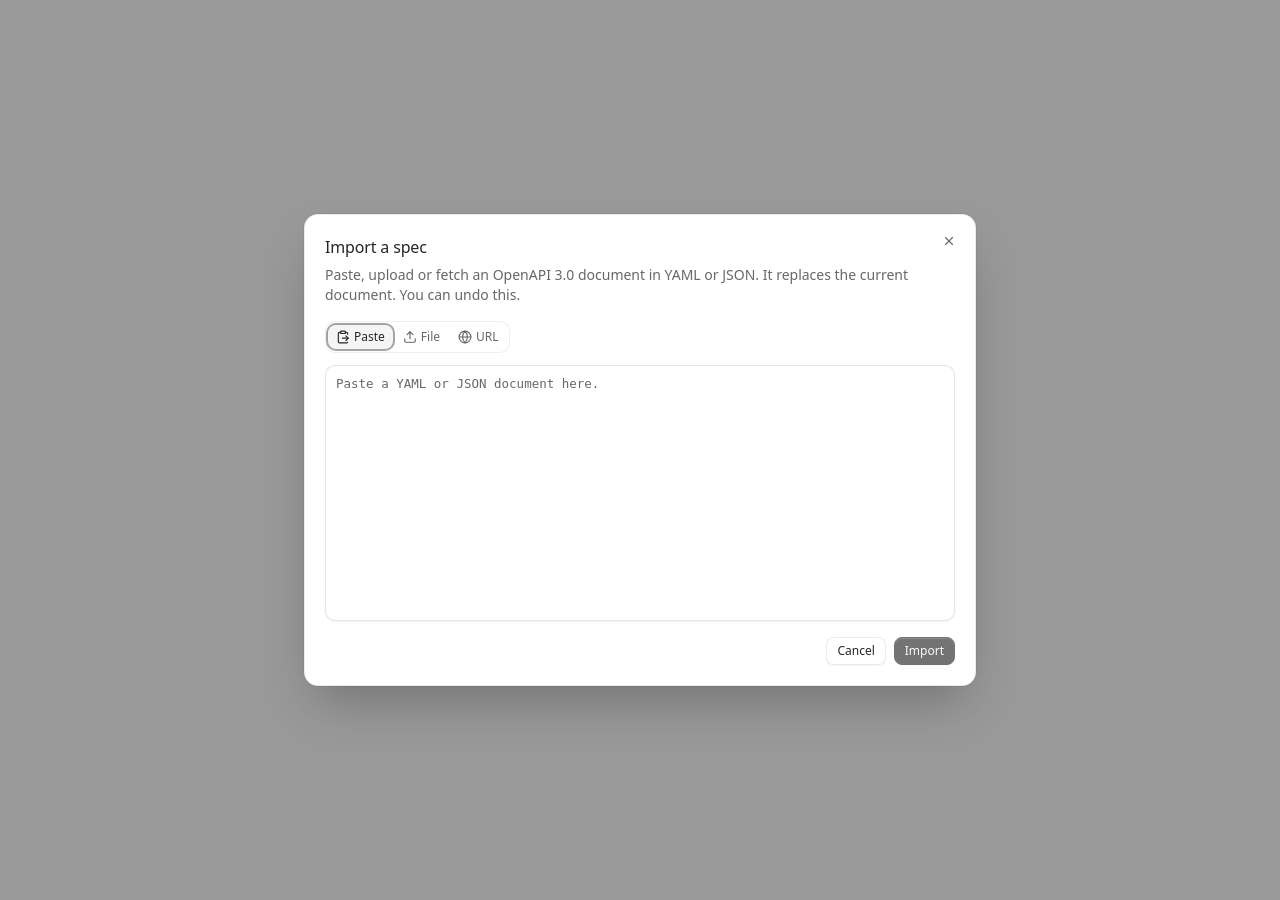
ImportDialog › replaces the document with a pasted spec, closes, goes to the overview and reports counts
Click the text box named "OpenAPI document" at (640, 493), box [325,365,955,621]
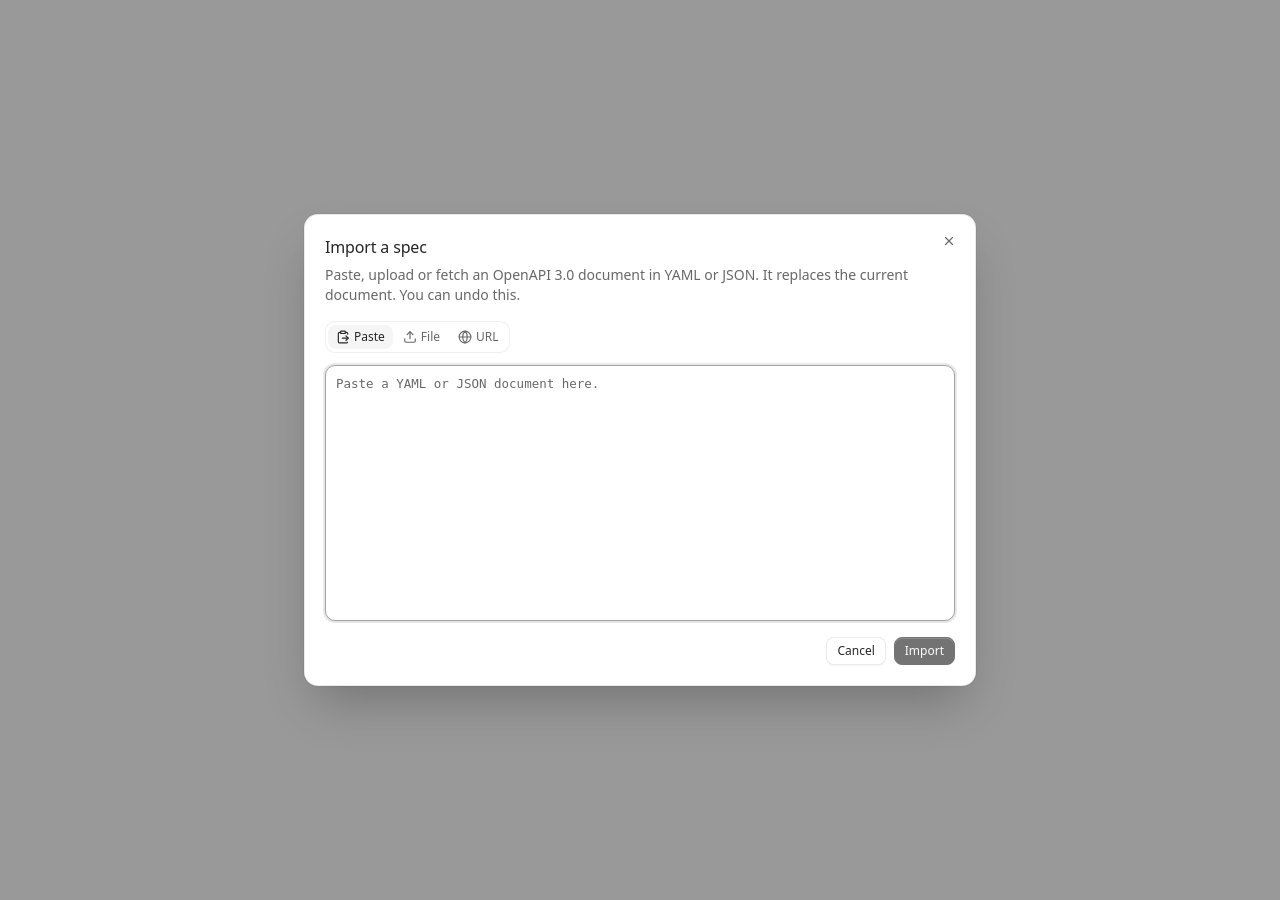
Type keys "openapi: 3.0.3 info:   title: Petstore   version: 1.0.0 paths:   /pets:     get:       operationId: listPets       responses:         '200':           description: OK     post:       operationId: crea"
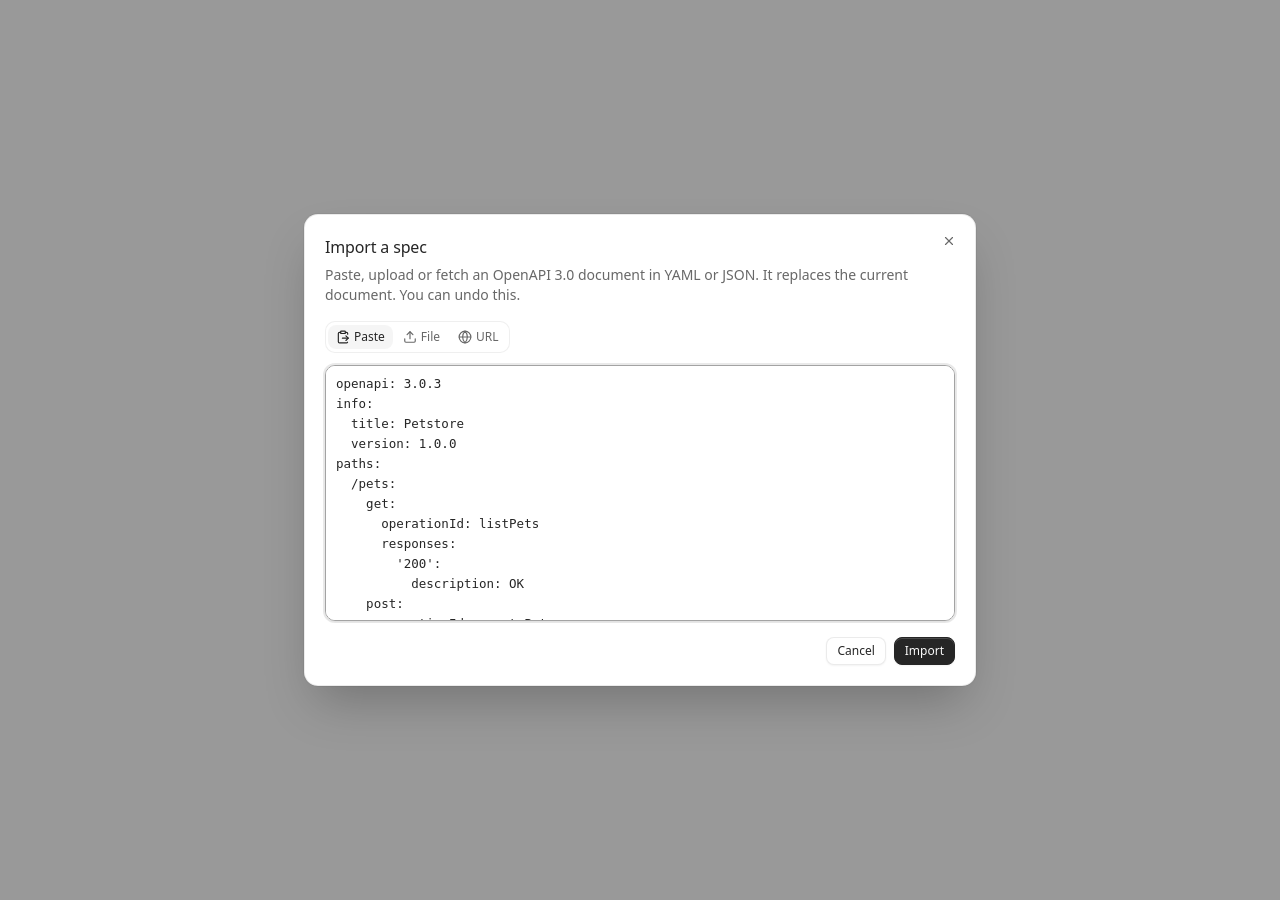
Click the button "Import" at (924, 651), box [894,637,955,665]
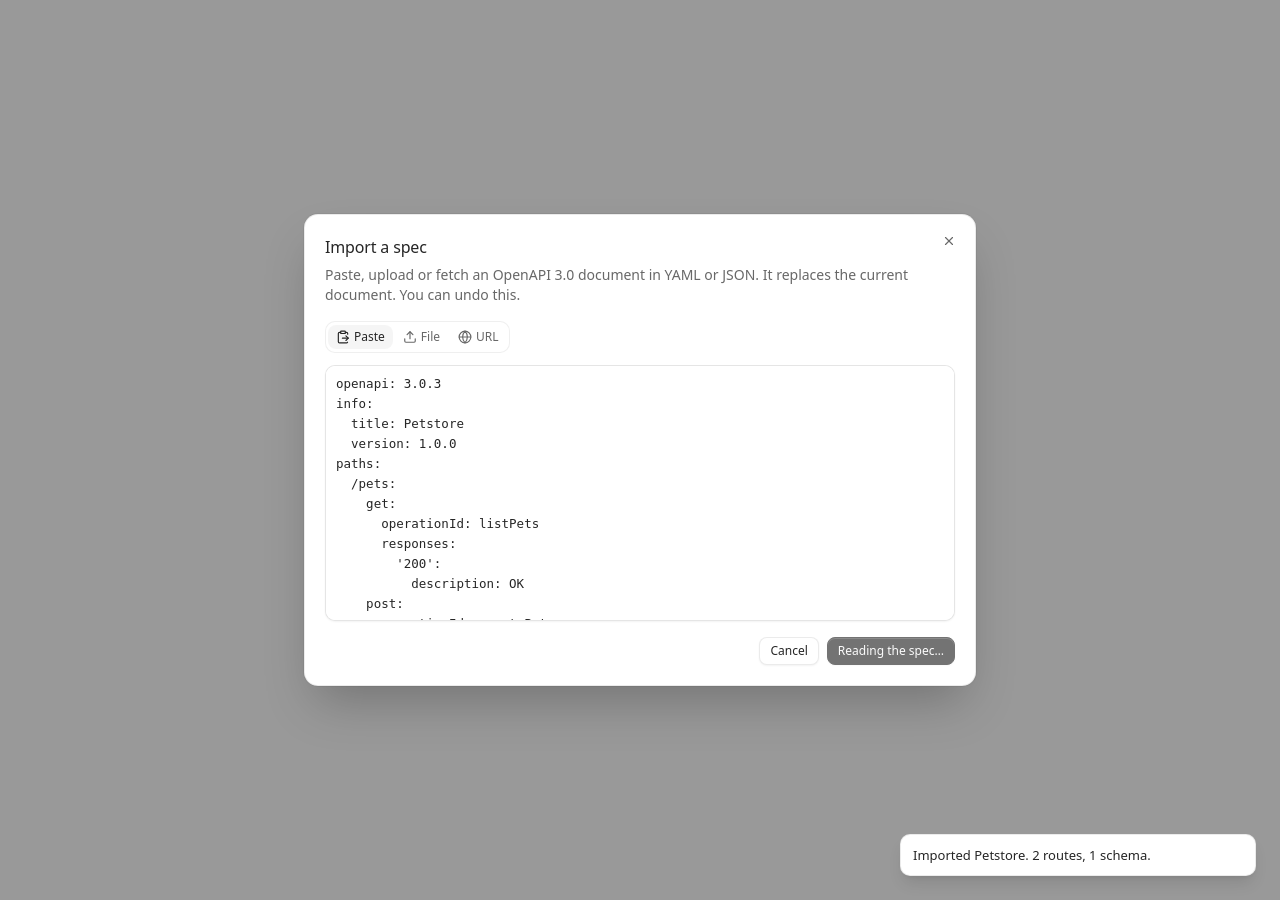
Now the text "Imported Petstore. 2 routes, 1 schema." is shown, box [913,846,1151,864]
